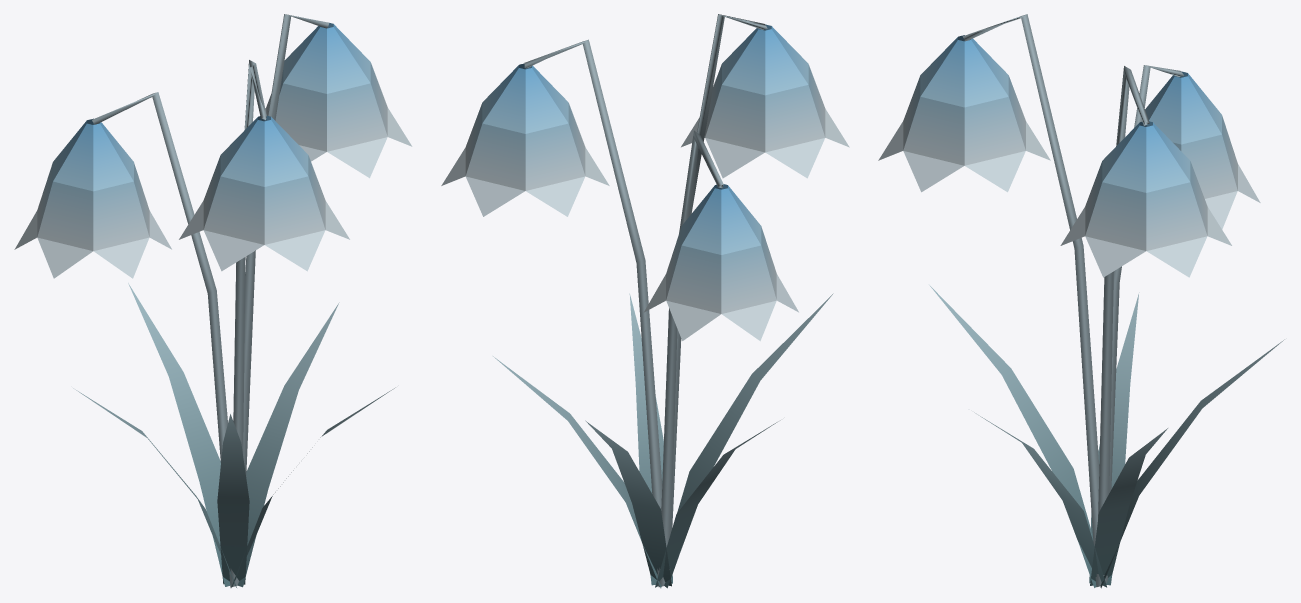
Rendered from east_glasslily.glb.
3 views of the same model, side by side, from view 1: azimuth 30°, elevation 25°; view 2: azimuth 150°, elevation 25°; view 3: azimuth 270°, elevation 25° (orthographic). The views are drawn at different scales.
Parts seen in each view (by area): view 1: east_glasslily; view 2: east_glasslily; view 3: east_glasslily.
Boxes of the visible parts, x1,y1,x2,y2 form: east_glasslily: (14, 14, 412, 587); east_glasslily: (441, 14, 849, 588); east_glasslily: (878, 14, 1284, 588).
Size of the model in its own units: 0.8327 by 1.3 by 0.8624.
